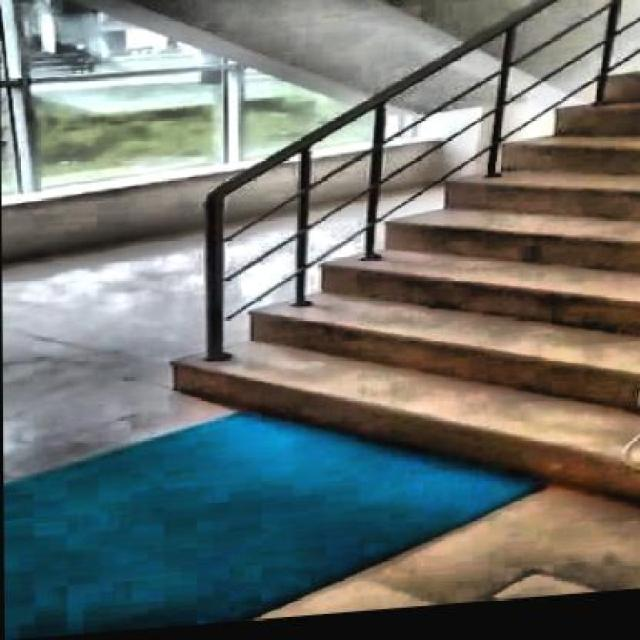stair: (156, 0, 638, 574)
